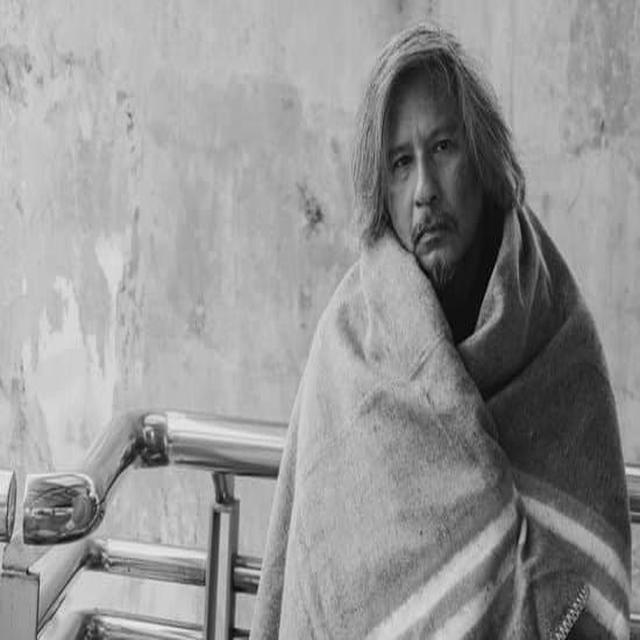Sadness: (384, 73, 474, 272)
